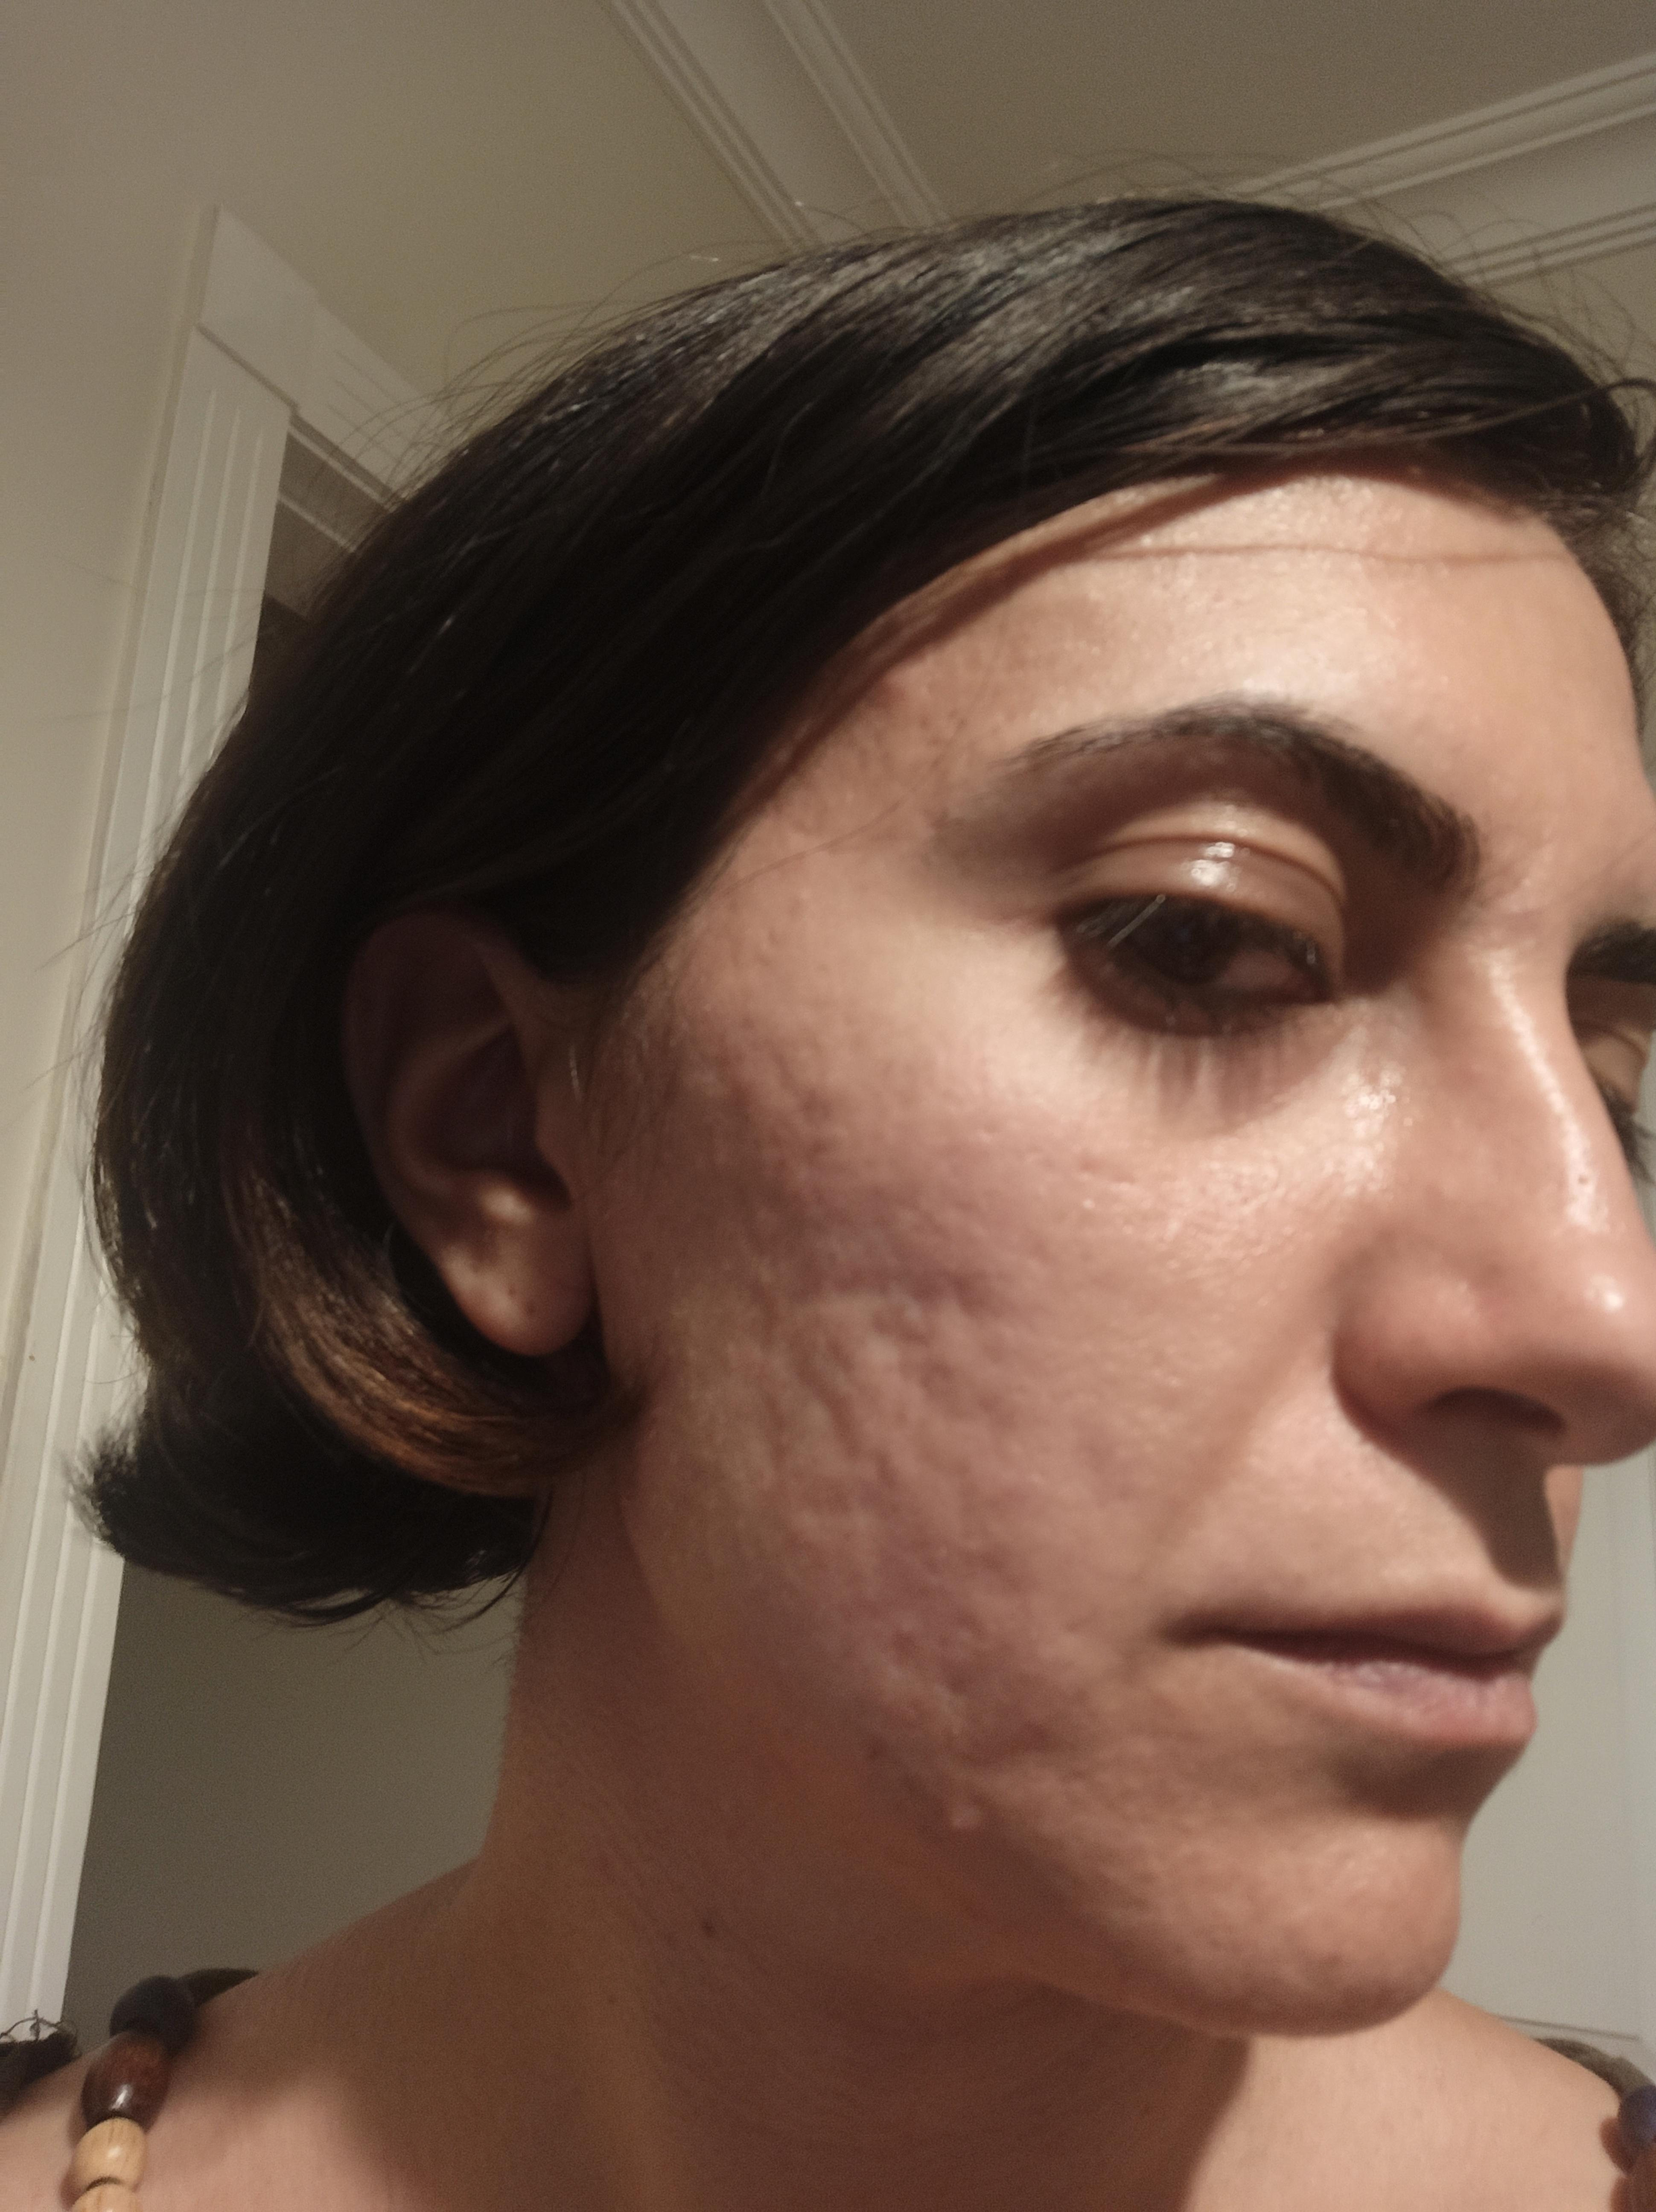Englarged-Pores: (731, 1250, 1007, 1532), (713, 1042, 837, 1202), (925, 1530, 1009, 1709)
